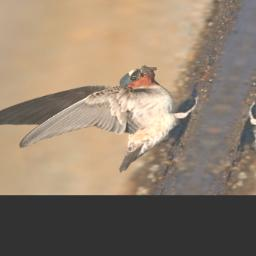Swallow: (0, 53, 212, 177)
